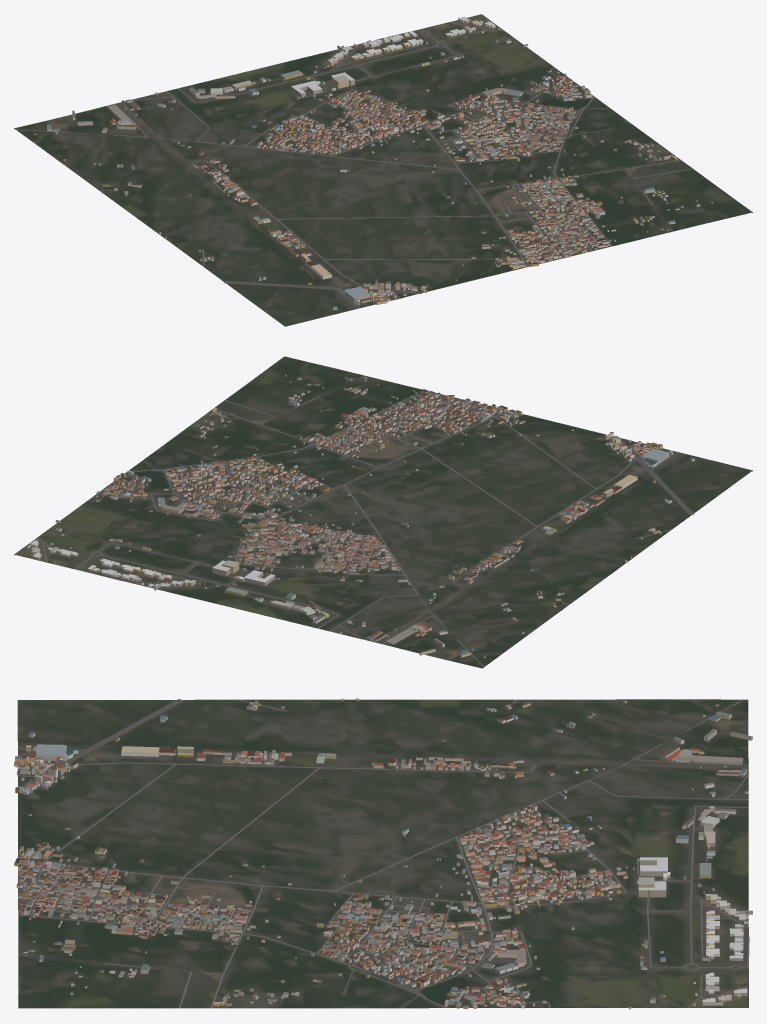
3 renders of one model, top to bottom at view 1: azimuth 30°, elevation 25°; view 2: azimuth 150°, elevation 25°; view 3: azimuth 270°, elevation 25°, orthographic. The views are drawn at different scales.
Parts seen in each view (by area): view 1: ground, buildings, roads; view 2: ground, buildings, roads; view 3: ground, buildings, roads, water.
Boxes of the visible parts, x1=… form: ground: x1=14, y1=14, x2=752, y2=326; buildings: x1=34, y1=16, x2=713, y2=309; roads: x1=15, y1=22, x2=692, y2=308; ground: x1=14, y1=356, x2=752, y2=668; buildings: x1=27, y1=374, x2=694, y2=658; roads: x1=36, y1=375, x2=694, y2=667; ground: x1=17, y1=699, x2=748, y2=1008; buildings: x1=14, y1=698, x2=752, y2=1009; roads: x1=17, y1=699, x2=749, y2=1008; water: x1=18, y1=749, x2=743, y2=1004.
Size of the model in its own units: 1408 by 25.09 by 1418.
